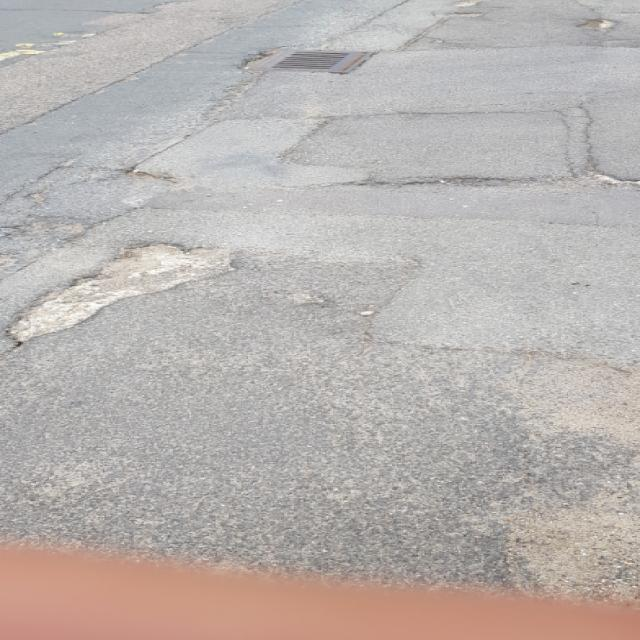pothole: (2, 237, 246, 348)
